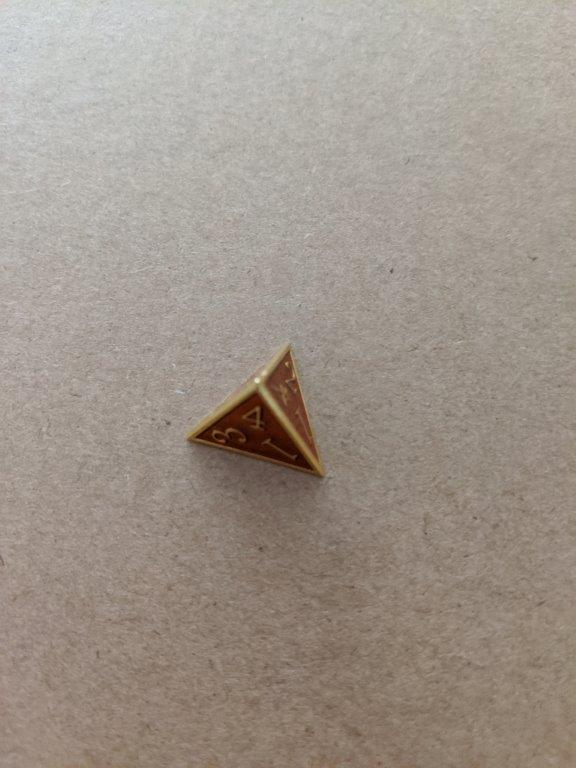d4-4: (182, 337, 328, 482)
